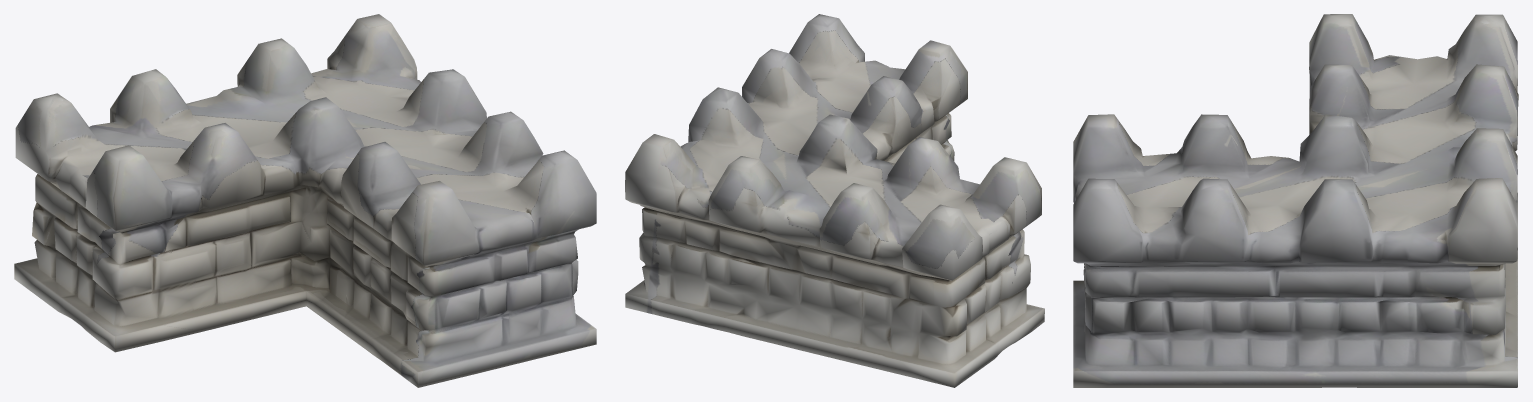
File: wallAngle.fbx
3 views of the same model, side by side, from view 1: azimuth 30°, elevation 25°; view 2: azimuth 150°, elevation 25°; view 3: azimuth 270°, elevation 25° (orthographic). The views are drawn at different scales.
Visible parts, largest first — view 1: Mesh_0; view 2: Mesh_0; view 3: Mesh_0.
Part boxes in pixels (<box>): Mesh_0: <box>14,14,596,387</box>; Mesh_0: <box>625,14,1044,387</box>; Mesh_0: <box>1073,14,1518,387</box>.
Size of the model in its own units: 2013 by 1000 by 2002.
Materials: 1 (1 with a texture image).
